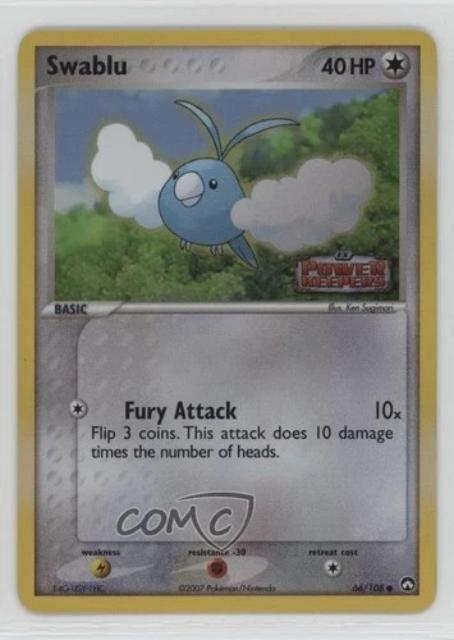Card: (14, 17, 448, 622)
Name: (40, 50, 131, 82)
